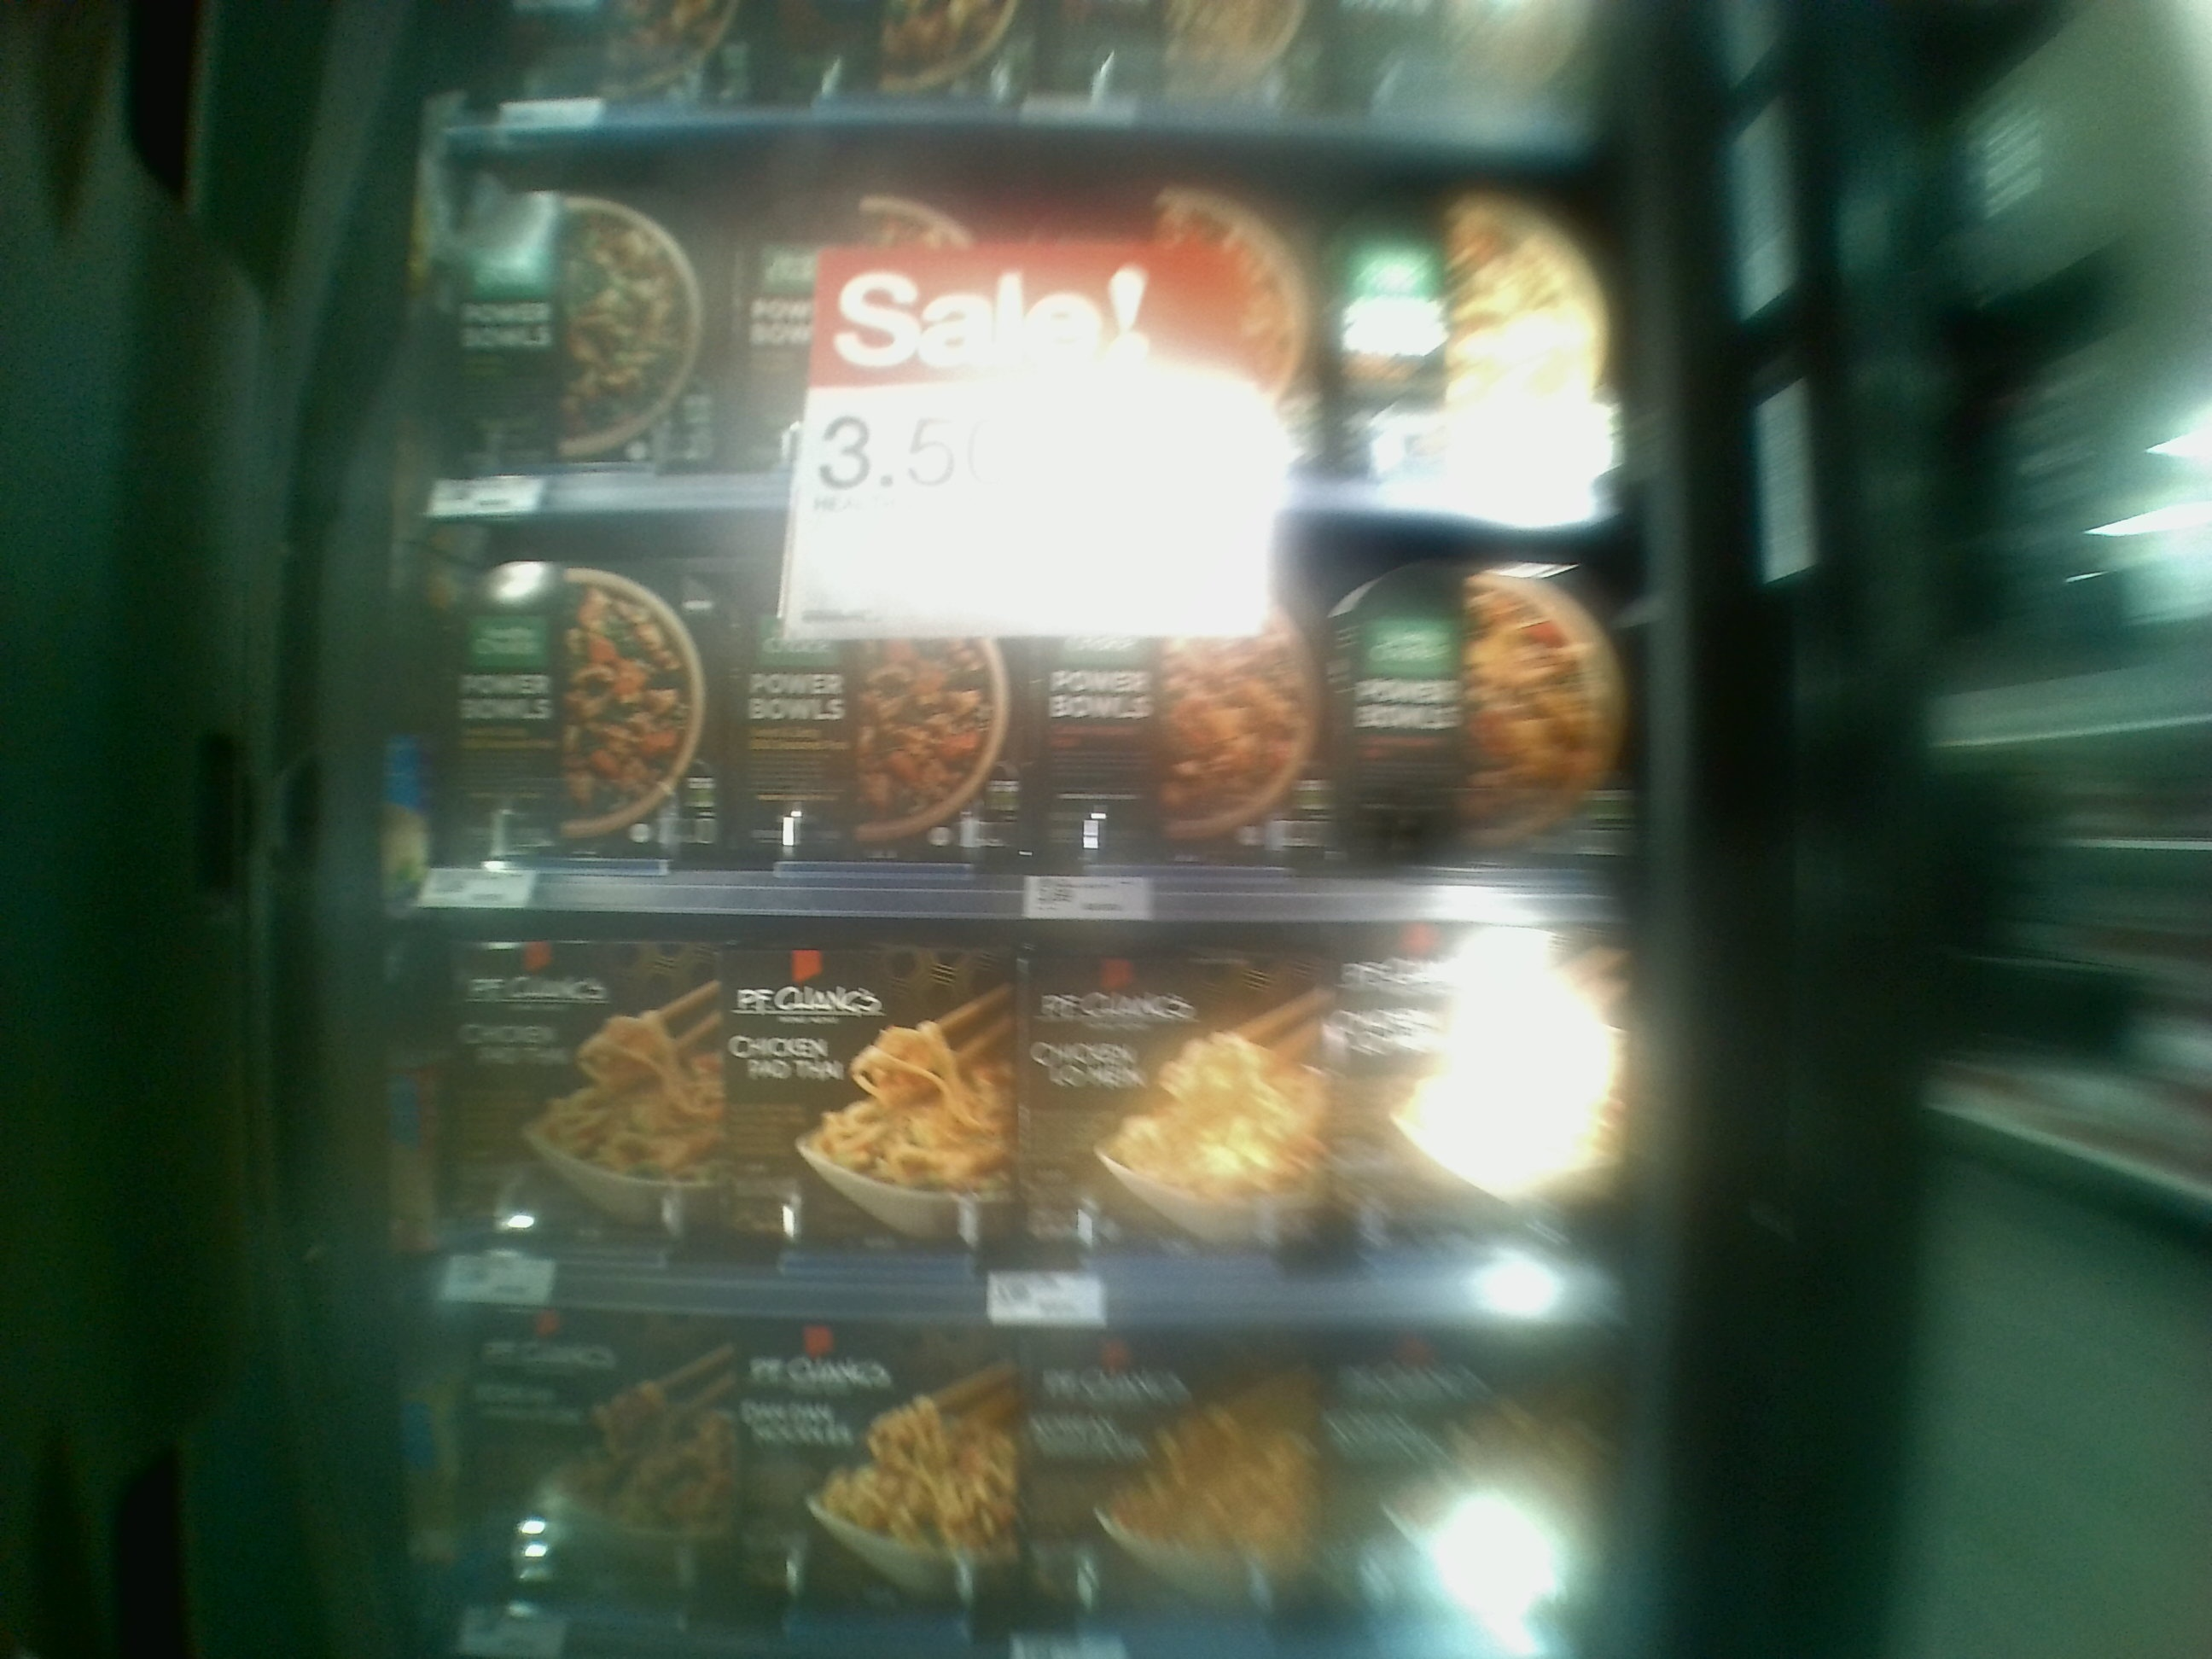shelf: (413, 910, 1622, 1324), (411, 511, 1629, 913)
